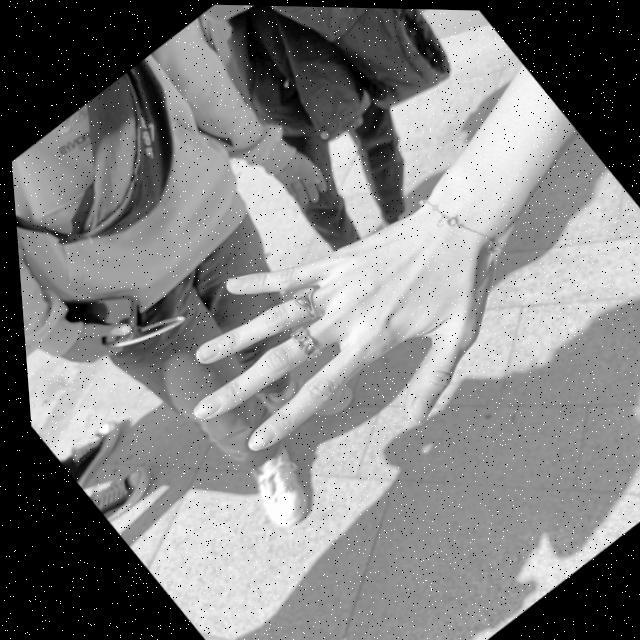no-gloves: (118, 81, 632, 537)
